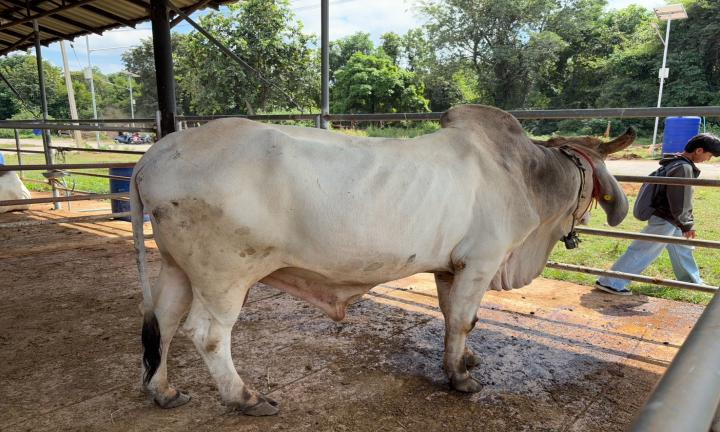Brahman: (131, 105, 635, 414)
